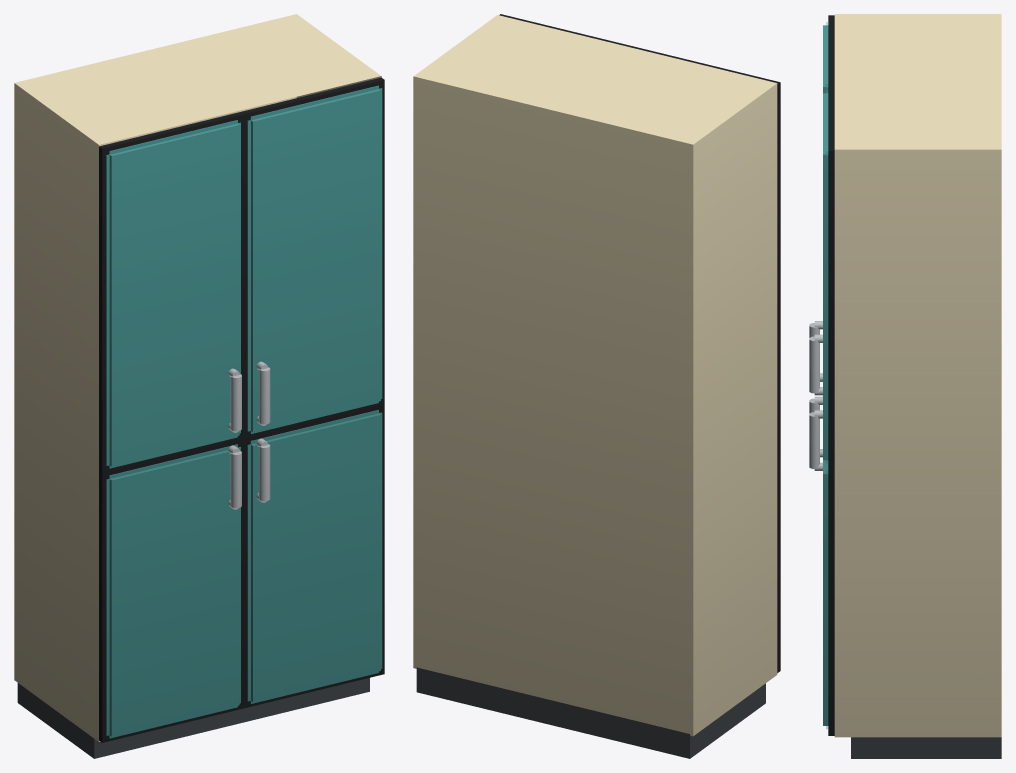
File: KitCab_Tall_Pantry_10.glb
3 renders of one model, left to right at view 1: azimuth 30°, elevation 25°; view 2: azimuth 150°, elevation 25°; view 3: azimuth 270°, elevation 25°, orthographic.
Visible parts, largest first — view 1: SM_KitCab_Tall_Pantry_10; view 2: SM_KitCab_Tall_Pantry_10; view 3: SM_KitCab_Tall_Pantry_10.
Boxes of the visible parts, box(x1,y1,x2,y2) form: SM_KitCab_Tall_Pantry_10: box(14, 14, 384, 758); SM_KitCab_Tall_Pantry_10: box(413, 14, 780, 758); SM_KitCab_Tall_Pantry_10: box(809, 14, 1001, 758).
Bounding box in the file's own units: 1 × 2.1 × 0.5995.
1 material, 1 textured.
